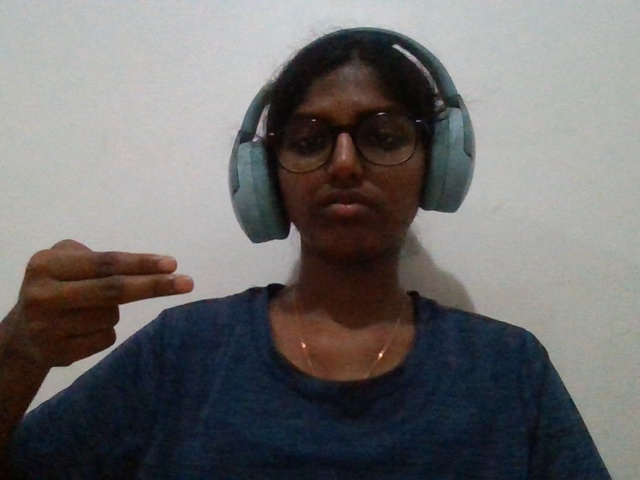H: (1, 198, 212, 451)
